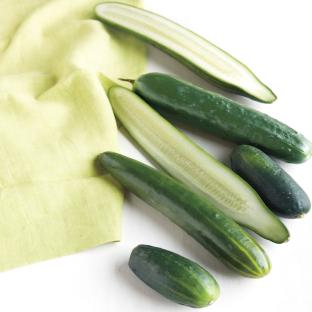Cucumber: (108, 87, 289, 243), (100, 152, 270, 278), (95, 3, 276, 102), (133, 73, 311, 163), (231, 145, 311, 218), (129, 245, 219, 308)
